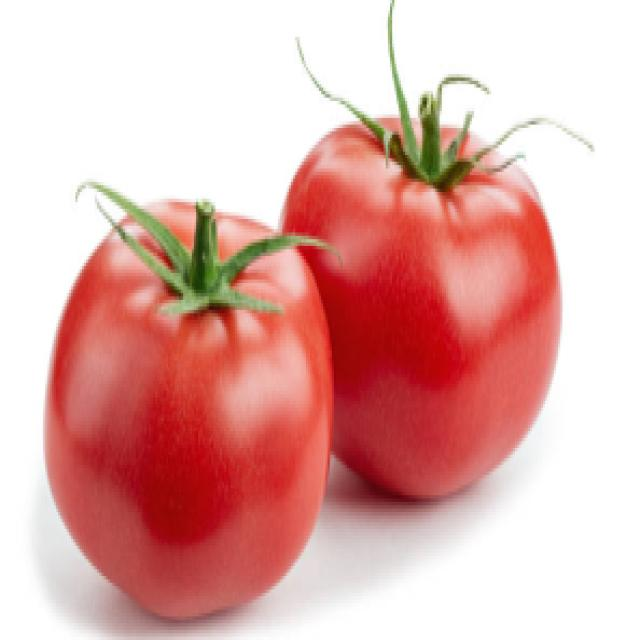Tomato: (32, 163, 338, 618), (279, 83, 564, 500)
